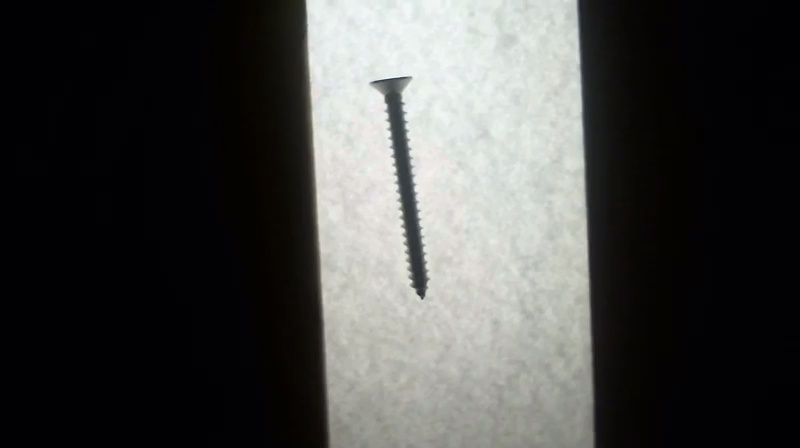S002: (366, 72, 431, 303)
